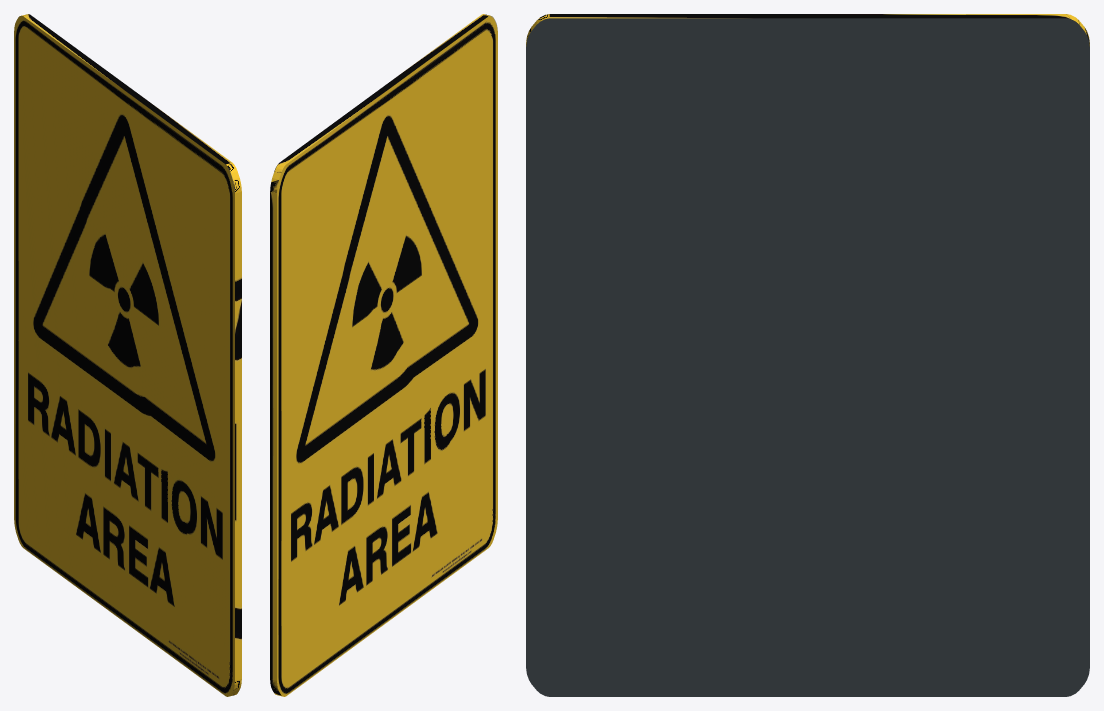
The model's file is warning_sign_vert.fbx.
3 renders of one model, left to right at view 1: azimuth 30°, elevation 25°; view 2: azimuth 150°, elevation 25°; view 3: azimuth 270°, elevation 25°, orthographic. The views are drawn at different scales.
Visible parts, largest first — view 1: warning_sign_vert_export; view 2: warning_sign_vert_export; view 3: warning_sign_vert_export.
Part boxes in pixels (x1,y1,x2,y2): warning_sign_vert_export: [14, 14, 241, 696]; warning_sign_vert_export: [270, 14, 497, 696]; warning_sign_vert_export: [526, 14, 1089, 696].
Bounding box in the file's own units: 1.14 × 83.66 × 62.98.
